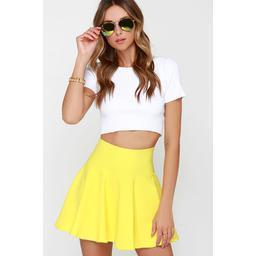Tshirt: (83, 58, 186, 136)
skirt: (56, 138, 180, 250)
